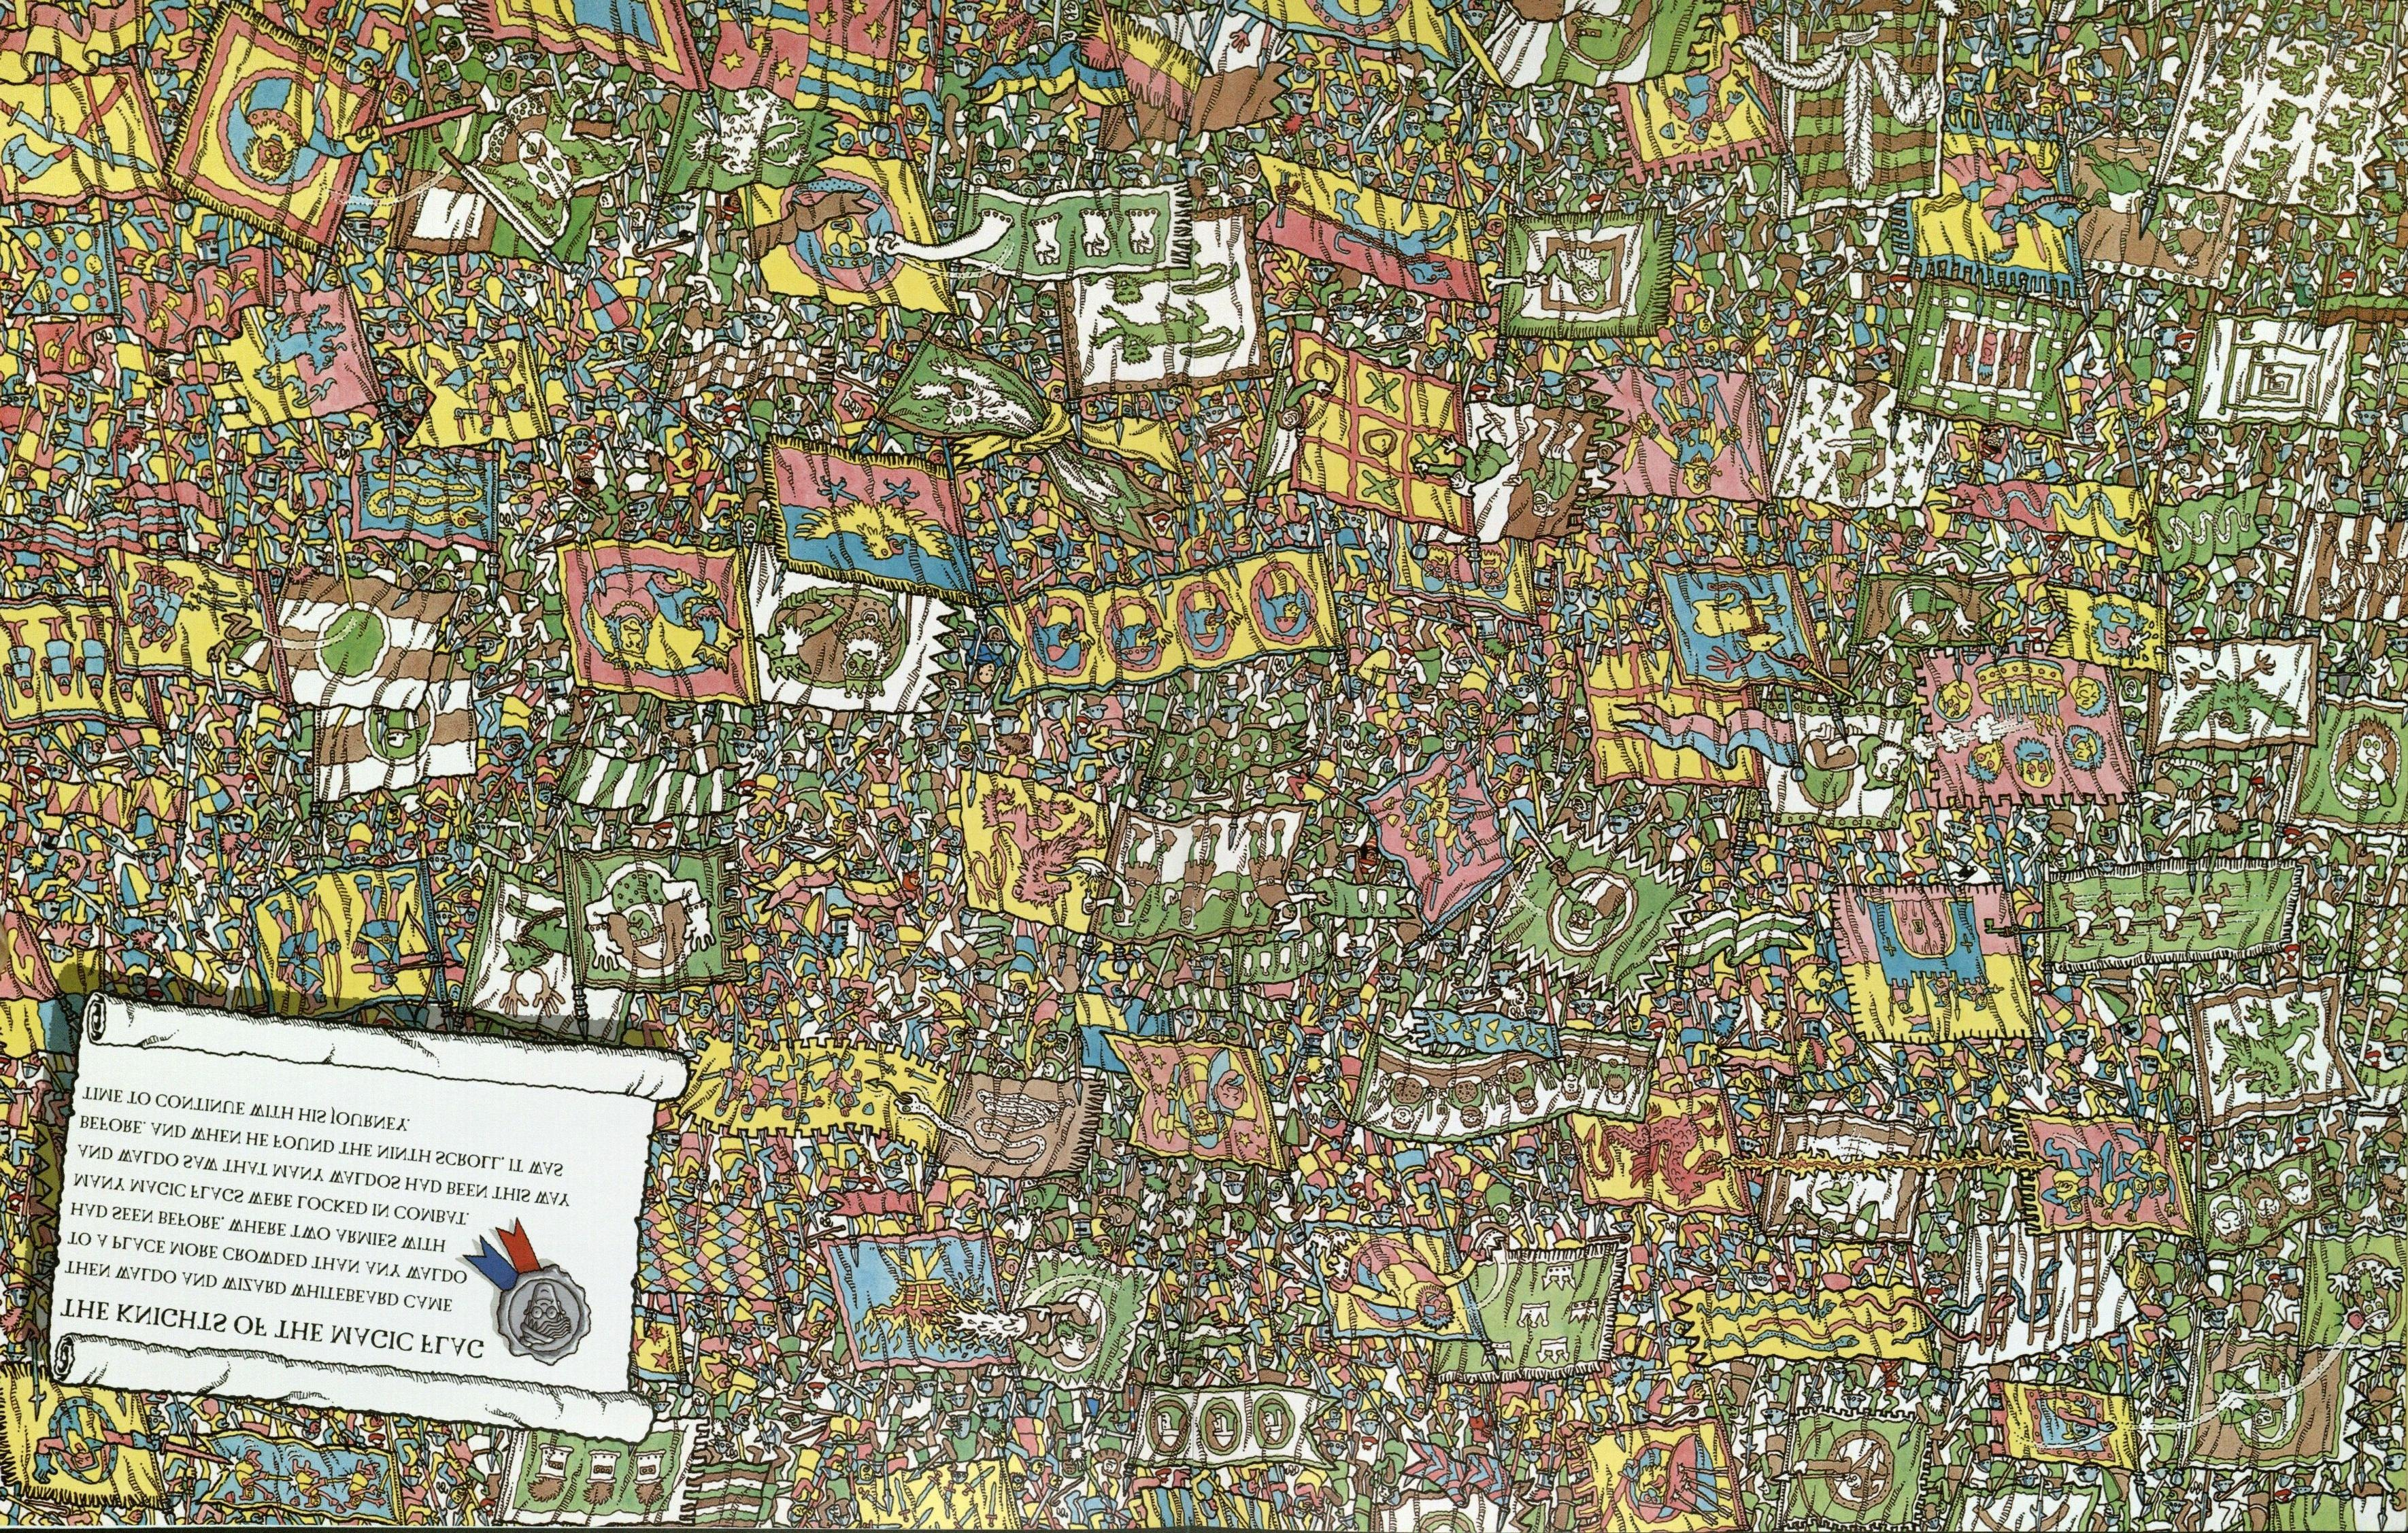waldos: (570, 430, 602, 496)
